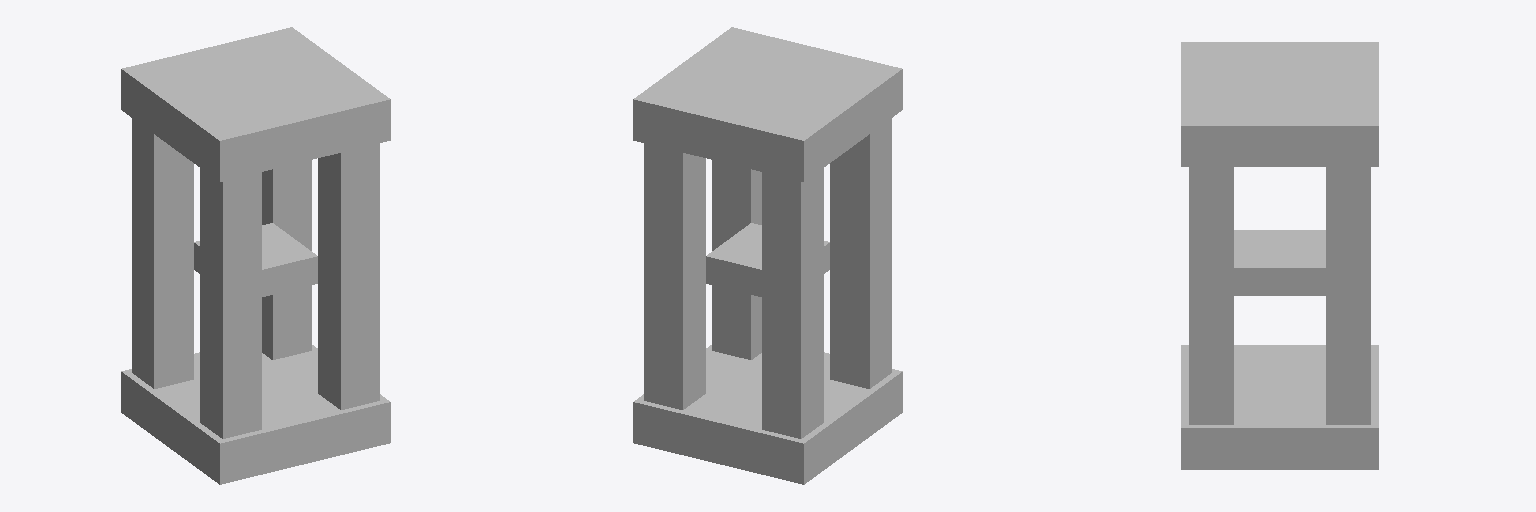
File: gemshower.obj
The picture shows the model from 3 angles: view 1: azimuth 30°, elevation 25°; view 2: azimuth 150°, elevation 25°; view 3: azimuth 270°, elevation 25°; orthographic projection.
Visible parts, largest first — view 1: cube_1, cube_0, cube_5, cube_4, cube_2, cube_3, cube_6; view 2: cube_1, cube_0, cube_2, cube_3, cube_5, cube_4, cube_6; view 3: cube_1, cube_0, cube_3, cube_4, cube_6.
Boxes of the visible parts, x1,y1,x2,y2 form: cube_1: [121, 27, 390, 181]; cube_0: [121, 345, 390, 484]; cube_5: [200, 168, 261, 438]; cube_4: [318, 143, 379, 409]; cube_2: [132, 118, 193, 388]; cube_3: [262, 160, 311, 359]; cube_6: [194, 223, 317, 296]; cube_1: [633, 27, 902, 181]; cube_0: [633, 345, 902, 484]; cube_2: [762, 168, 823, 438]; cube_3: [644, 143, 705, 409]; cube_5: [830, 118, 891, 388]; cube_4: [712, 160, 761, 359]; cube_6: [706, 223, 829, 296]; cube_1: [1181, 42, 1378, 166]; cube_0: [1181, 345, 1378, 469]; cube_3: [1326, 167, 1370, 424]; cube_4: [1189, 167, 1233, 424]; cube_6: [1234, 230, 1325, 295].
Bounding box in the file's own units: 0.8125 × 1.56 × 0.8125.